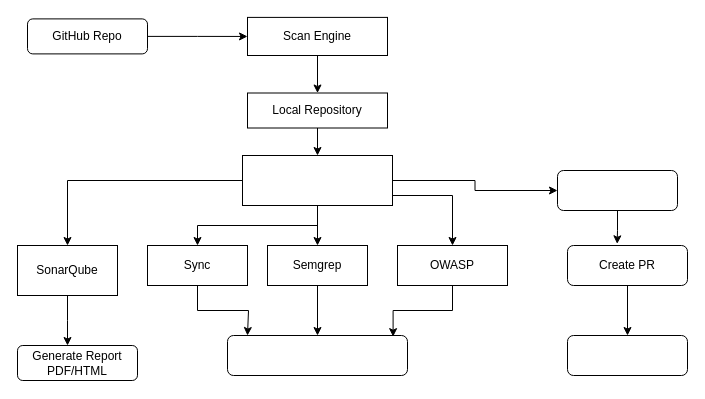
The diagram is 705 pixels wide and 399 high, and some of its shapes have lost their labels. The shapes that lost their labels are listed below. From the top down, each one's box as (x1, y1, x2, y2) in pixels, then its label:
(242, 154, 392, 206): Parse Repository
(556, 170, 678, 210): Fixes
(226, 334, 408, 376): Consolidate Generate CSV
(566, 334, 688, 376): Notifies to Approver
